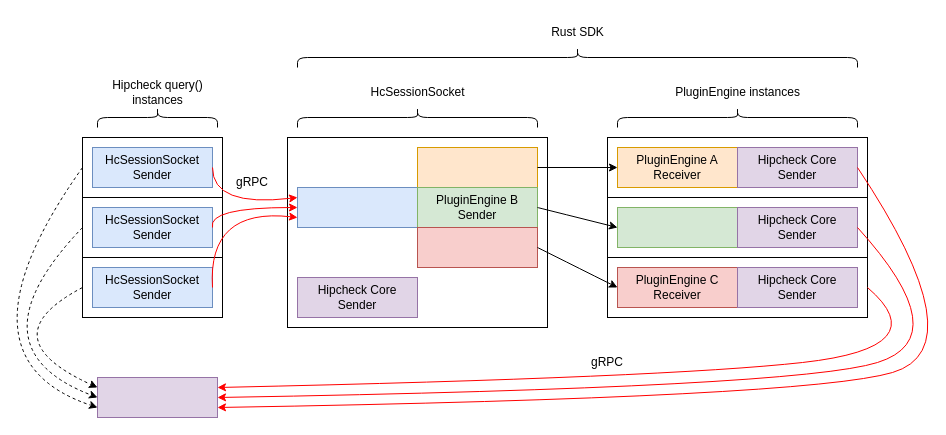
Some shapes in this 946 by 435 pixel diagram are drawn without their labels. Each missing label, with the box of its shape:
HcSessionSocket Receiver: (296, 186, 418, 228)
Hipcheck Core Receiver: (96, 376, 218, 418)
PluginEngine A Sender: (416, 146, 538, 188)
PluginEngine B Receiver: (616, 206, 738, 248)
PluginEngine C Sender: (416, 226, 538, 268)
